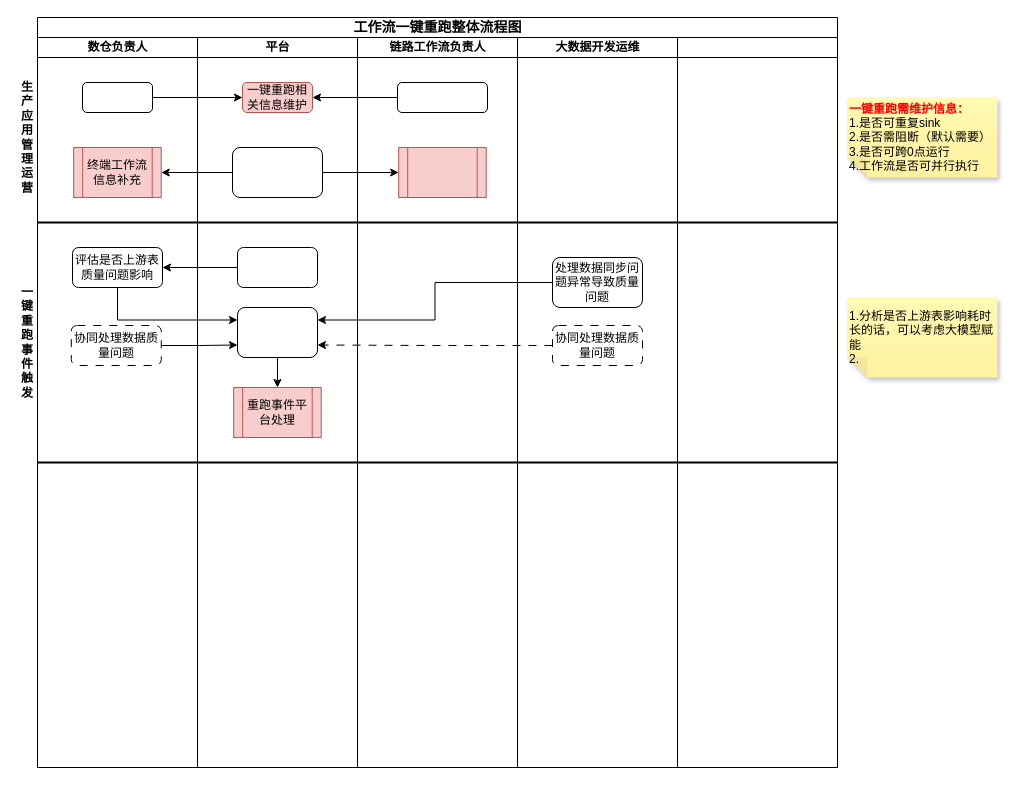
Image size: 1020x785. Some labels were removed from this diagram. The centre of each missing label's shape, as x and y in pixels:
"SLA链路一键重跑信息缺失的工作流清单筛查" belongs at pixel 277 172.
"受影响业务方" belongs at pixel 757 402.
"基于质量问题源表创建一键重跑事件" belongs at pixel 277 332.
"接收一键重跑相关信息维护通知" belongs at pixel 442 97.
"数仓质量问题告警" belongs at pixel 277 267.
"终端工作流纳入SLA" belongs at pixel 117 97.
"链路工作流信息补充" belongs at pixel 442 172.
